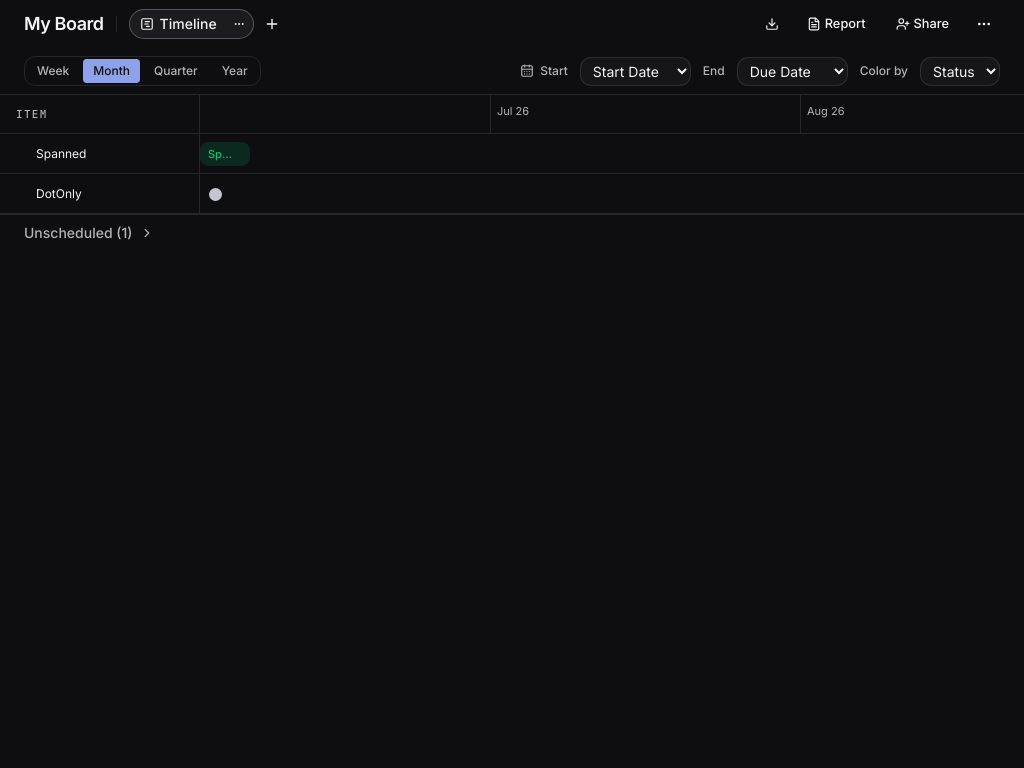
Test: GanttBoard — quick-edit peek › opens the peek from a milestone diamond
Note: "DotOnly" has a start but no end → milestone diamond with an aria-label.
Click the button named "DotOnly" at [215, 194], box [206, 185, 224, 203]
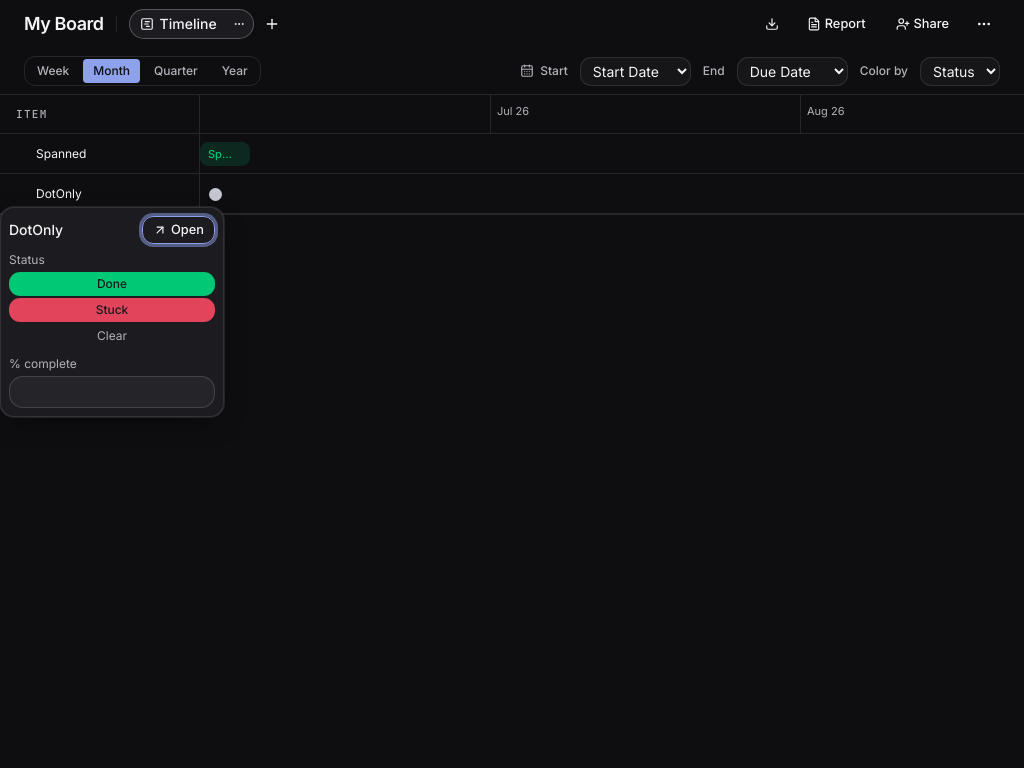
Expected: the dialog named "Edit DotOnly" is shown, [0, 207, 224, 417]
